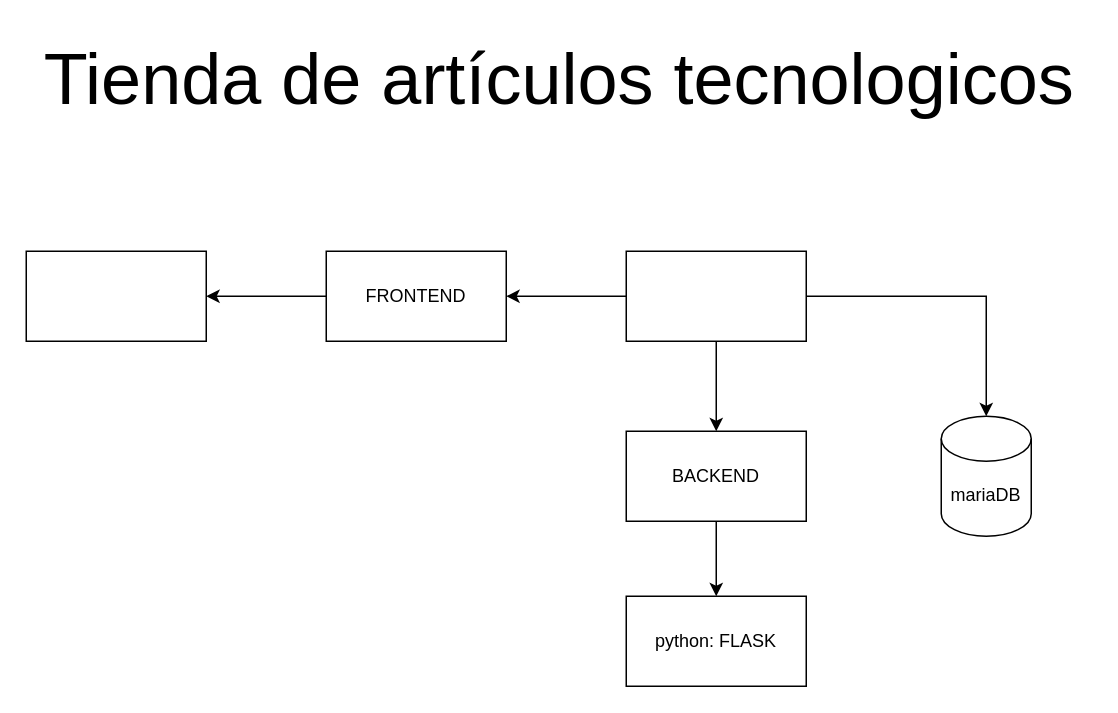
The diagram is 1118 pixels wide and 713 high, and some of its shapes have lost their labels. The centre of each missing label's shape, as x and y in pixels:
"APLICACIÓN" belongs at point 715,295.
"REACT" belongs at point 115,295.
